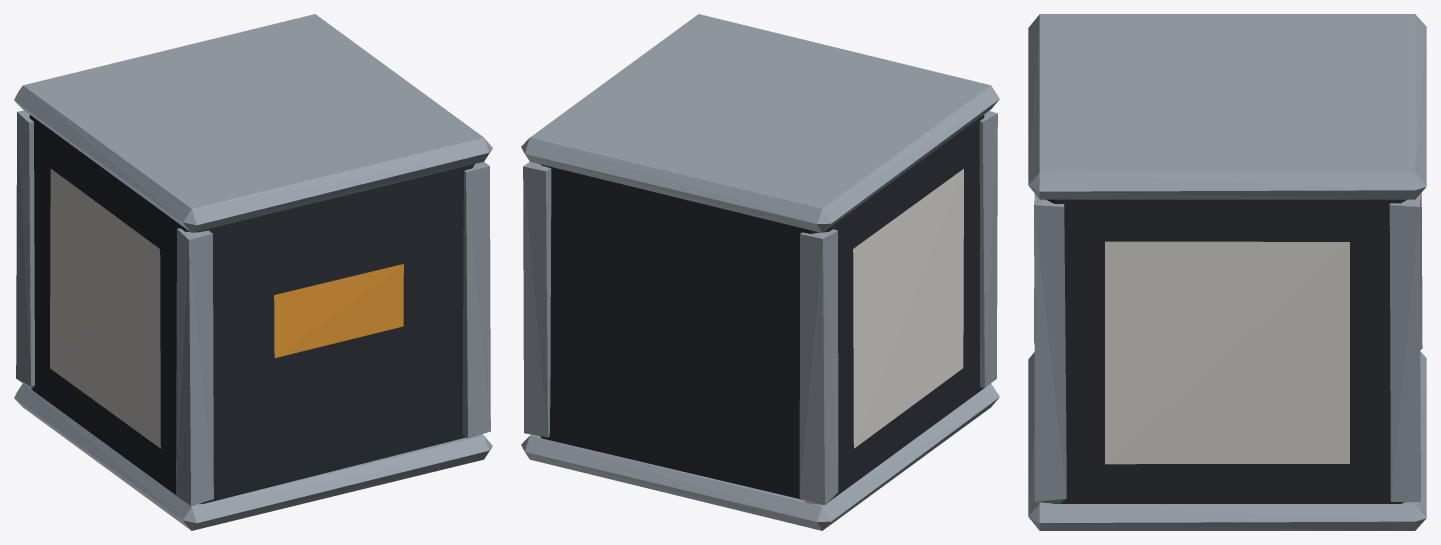
File: supply_crate_lod1.obj
The picture shows the model from 3 angles, left to right: view 1: azimuth 30°, elevation 25°; view 2: azimuth 150°, elevation 25°; view 3: azimuth 270°, elevation 25°; orthographic projection. The views are drawn at different scales.
Visible parts, largest first — view 1: supply_crate_lod1; view 2: supply_crate_lod1; view 3: supply_crate_lod1.
Boxes of the visible parts, x1,y1,x2,y2 form: supply_crate_lod1: [14, 14, 492, 530]; supply_crate_lod1: [521, 14, 999, 530]; supply_crate_lod1: [1028, 14, 1426, 530].
Bounding box in the file's own units: 0.8063 × 0.8 × 0.8063.
